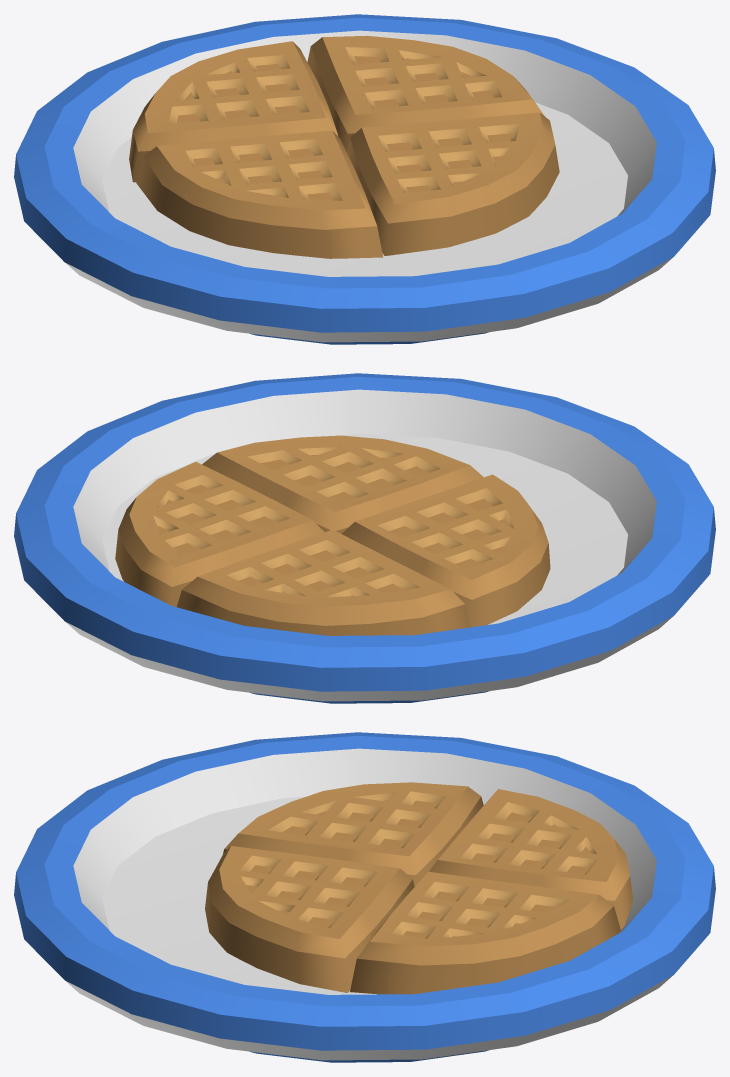
Rendered from Dish_6_LV2.glb.
3 renders of one model, top to bottom at view 1: azimuth 30°, elevation 25°; view 2: azimuth 150°, elevation 25°; view 3: azimuth 270°, elevation 25°, orthographic.
Visible parts, largest first — view 1: Dish_6_LV2; view 2: Dish_6_LV2; view 3: Dish_6_LV2.
Part boxes in pixels (<box>): Dish_6_LV2: <box>14,14,715,344</box>; Dish_6_LV2: <box>14,373,715,703</box>; Dish_6_LV2: <box>14,732,715,1062</box>.
Bounding box in the file's own units: 0.4347 × 0.0639 × 0.4352.
1 material, 1 textured.
